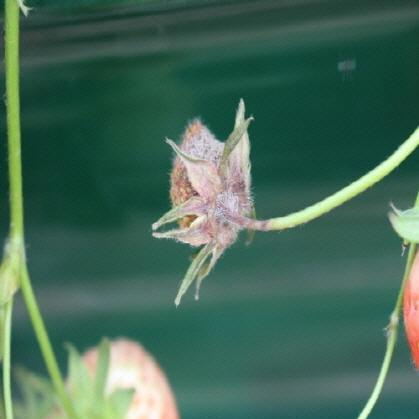Gray Mold: (150, 97, 271, 306)
